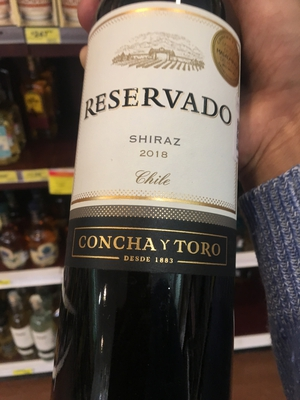reservado shiraz: (77, 8, 243, 400)
